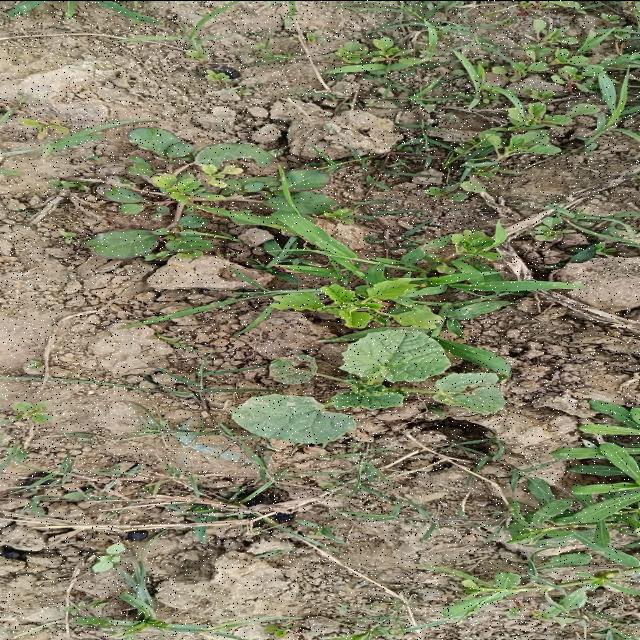weed: (272, 278, 443, 328)
